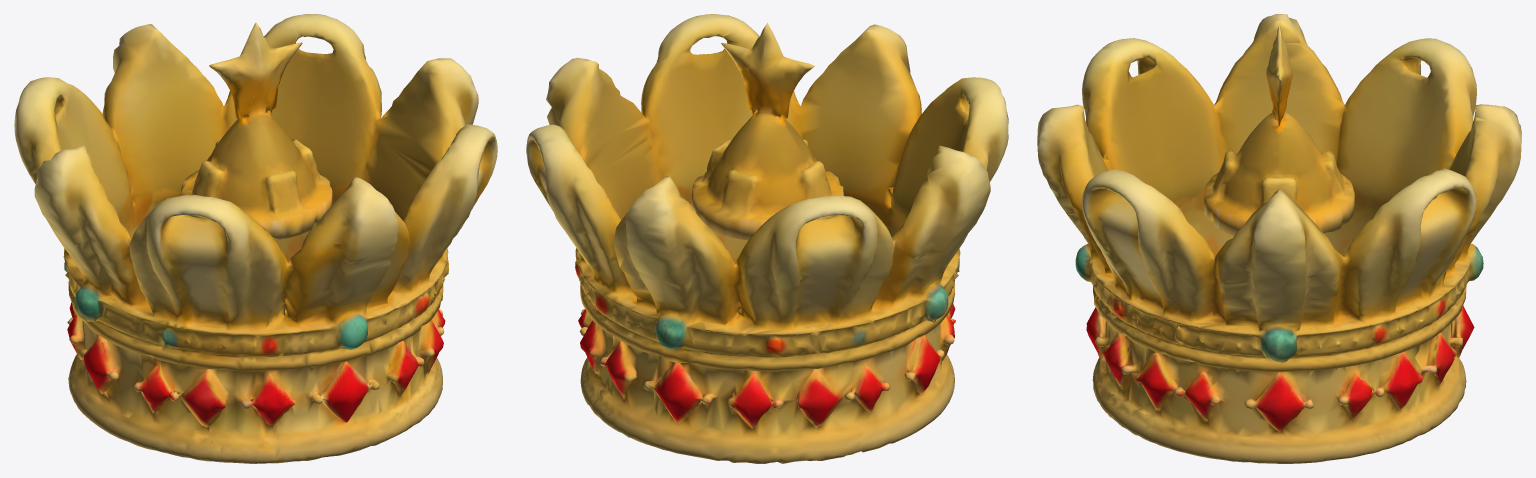
The model's file is crown.glb.
3 renders of one model, left to right at view 1: azimuth 30°, elevation 25°; view 2: azimuth 150°, elevation 25°; view 3: azimuth 270°, elevation 25°, orthographic.
Visible parts, largest first — view 1: model; view 2: model; view 3: model.
Part boxes in pixels (x1,y1,x2,y2): model: [14, 14, 497, 463]; model: [526, 14, 1008, 463]; model: [1037, 14, 1521, 463].
Bounding box in the file's own units: 1.9 × 1.57 × 1.9.
1 material, 1 textured.
